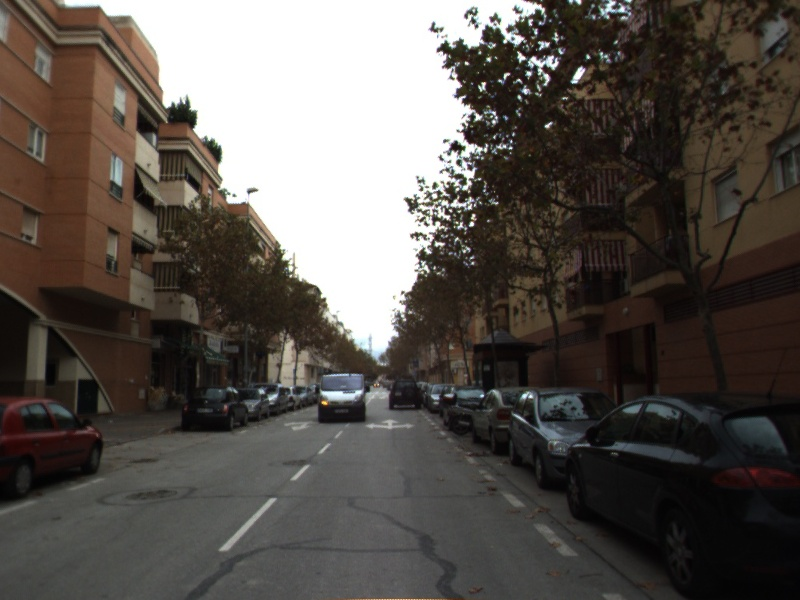STRAIGHT_LEFT_RIGHT: (363, 416, 418, 432)
